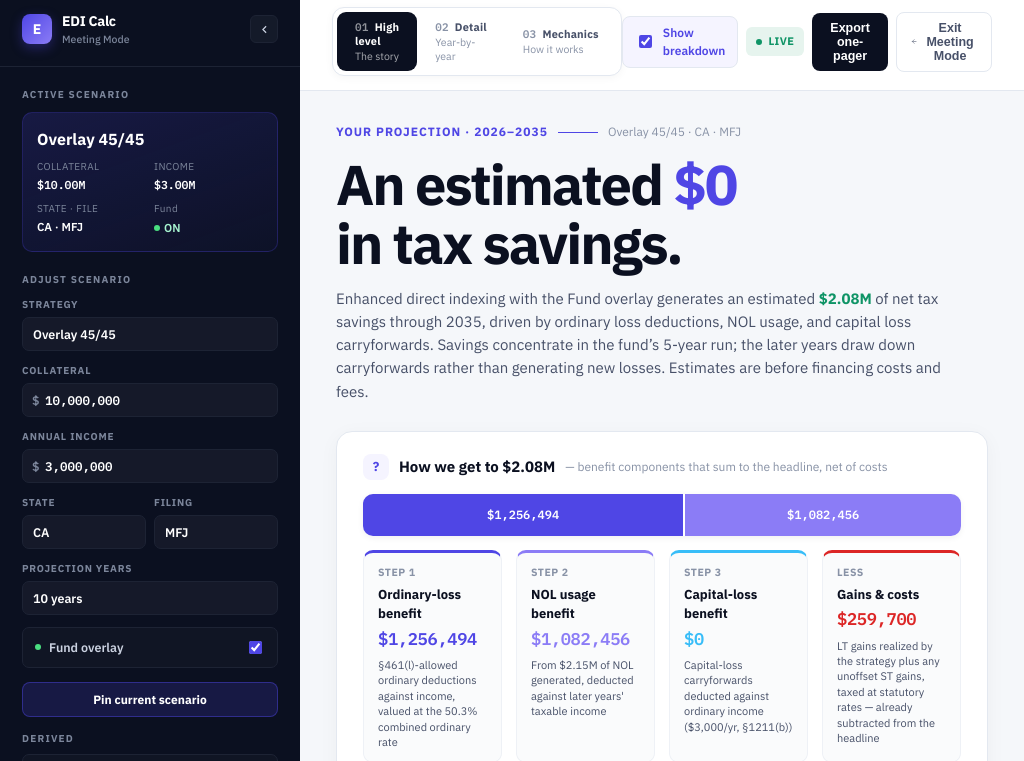
Test case: Meeting Mode selected-year explanation › reconciles the selected engine year into benefits, costs, and net savings
Click the text "Detail" at (461,27), box [435,20,487,34]
(page scrolled)
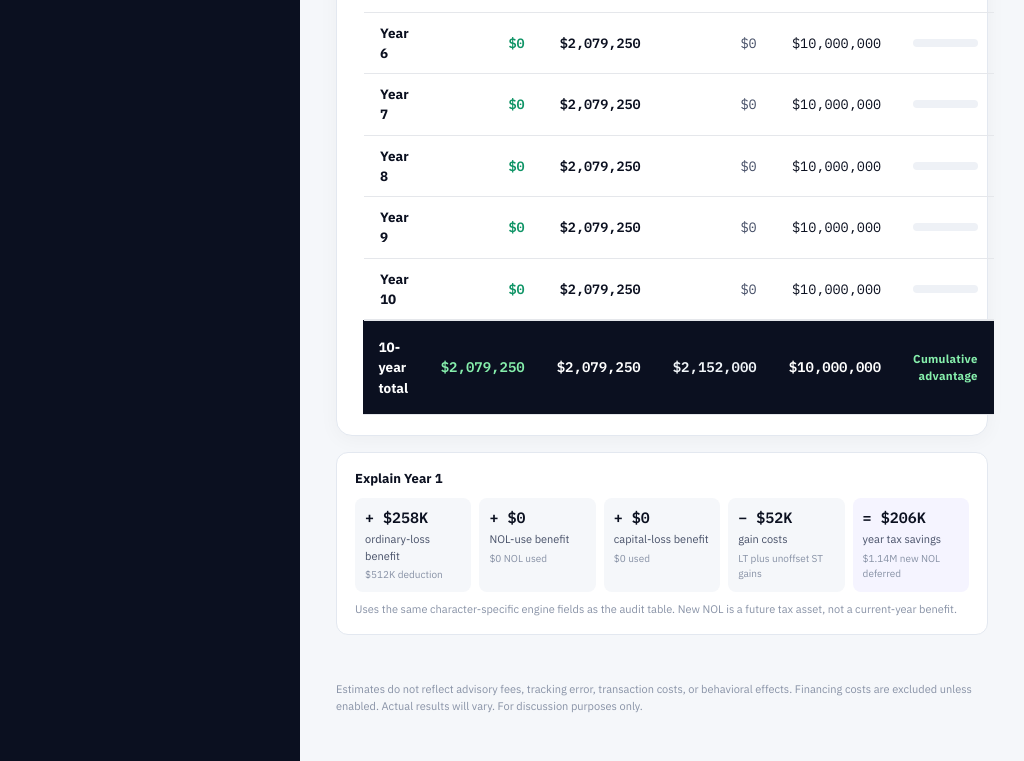
Now the element with test id "mm-selected-year-reconciliation" shows "Explain Year 1", box [336,452,988,635]
Now the element with test id "mm-selected-year-reconciliation" shows "ordinary-loss benefit", box [365,532,430,563]
Now the element with test id "mm-selected-year-reconciliation" shows "NOL-use benefit", box [489,532,570,546]
